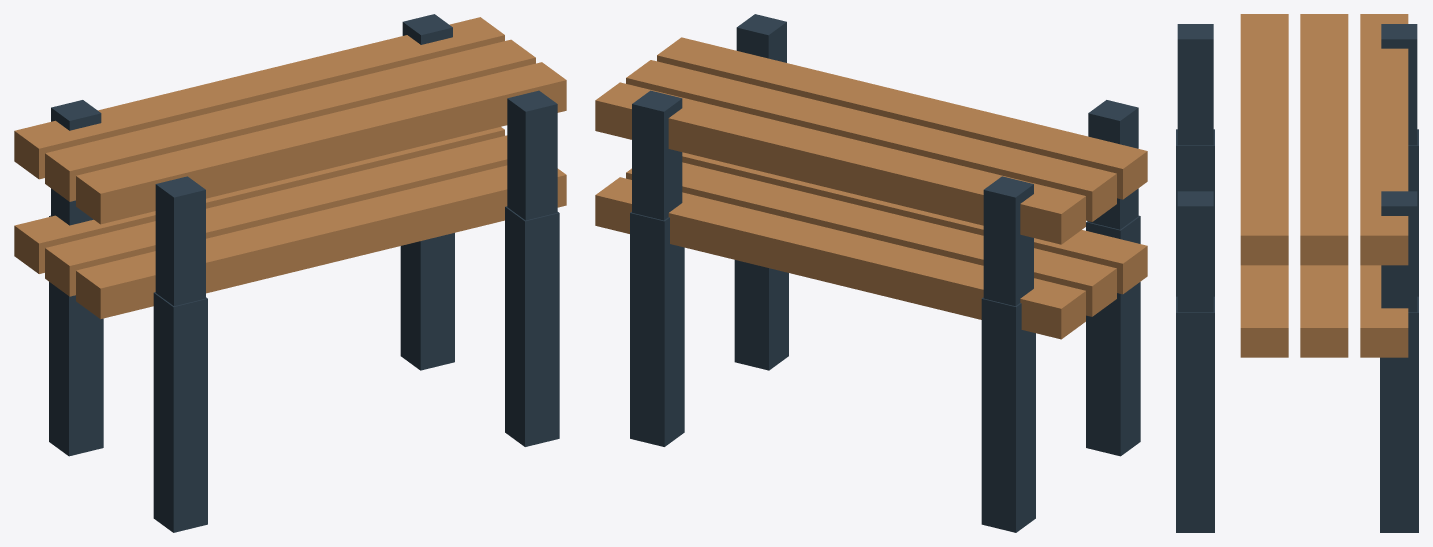
The picture shows the model from 3 angles, left to right: view 1: azimuth 30°, elevation 25°; view 2: azimuth 150°, elevation 25°; view 3: azimuth 270°, elevation 25°; orthographic projection. The views are drawn at different scales.
Parts seen in each view (by area): view 1: square-beam (×8), back-plank (×3), seat-plank (×3); view 2: square-beam (×8), back-plank (×3), seat-plank (×3); view 3: back-plank (×3), square-beam (×8), seat-plank (×3).
Part boxes in pixels (x1=…): square-beam (×8): x1=49, y1=14, x2=559, y2=532; back-plank (×3): x1=14, y1=17, x2=566, y2=224; seat-plank (×3): x1=14, y1=127, x2=566, y2=319; square-beam (×8): x1=630, y1=14, x2=1140, y2=532; back-plank (×3): x1=595, y1=37, x2=1147, y2=244; seat-plank (×3): x1=595, y1=152, x2=1147, y2=339; back-plank (×3): x1=1240, y1=14, x2=1408, y2=265; square-beam (×8): x1=1176, y1=24, x2=1418, y2=532; seat-plank (×3): x1=1240, y1=265, x2=1408, y2=357.
Bounding box in the file's own units: 1.75 × 1.2 × 0.81.
